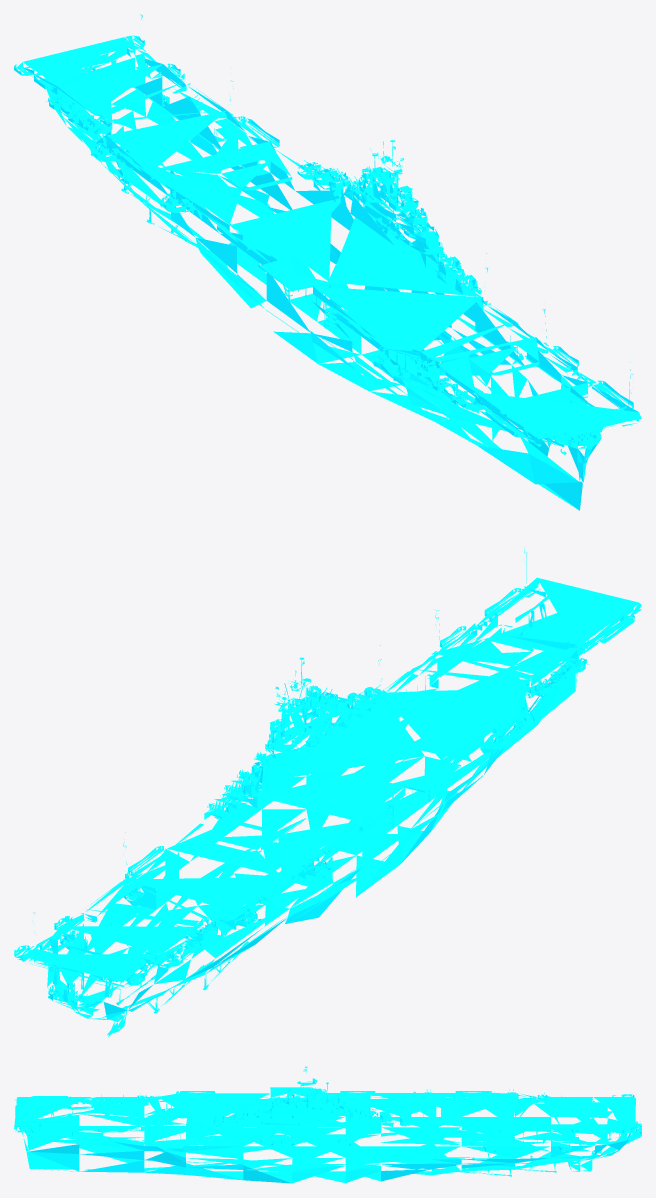
Rendered from PASA020.glb.
3 views of the same model, one above another, from view 1: azimuth 30°, elevation 25°; view 2: azimuth 150°, elevation 25°; view 3: azimuth 270°, elevation 25° (orthographic). The views are drawn at different scales.
Parts seen in each view (by area): view 1: hull, turret; view 2: hull, turret; view 3: hull, turret.
Boxes of the visible parts, x1=… form: hull: x1=14, y1=14, x2=641, y2=510; turret: x1=46, y1=95, x2=479, y2=401; hull: x1=14, y1=546, x2=641, y2=1036; turret: x1=164, y1=657, x2=589, y2=963; hull: x1=14, y1=1066, x2=641, y2=1183; turret: x1=99, y1=1094, x2=561, y2=1126.
Size of the model in its own units: 3.08 by 3.64 by 17.73.
